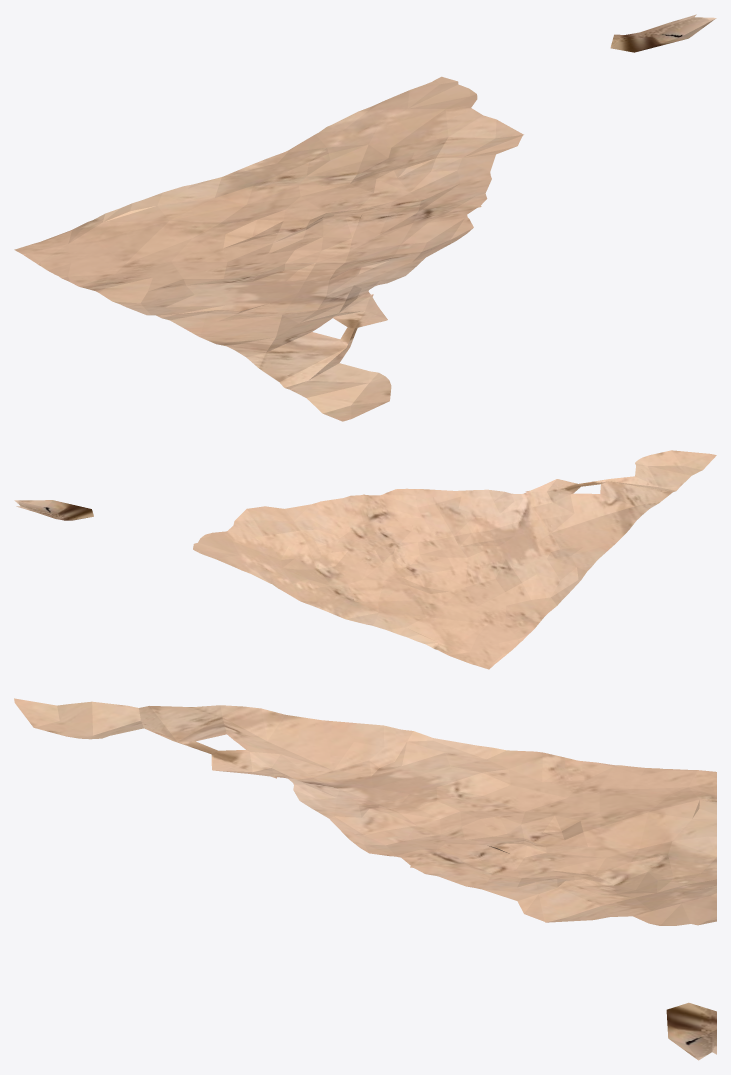
3 views of the same model, one above another, from view 1: azimuth 30°, elevation 25°; view 2: azimuth 150°, elevation 25°; view 3: azimuth 270°, elevation 25° (orthographic). The views are drawn at different scales.
Size of the model in its own units: 1.68 by 0.1589 by 1.38.
Materials: 1 (1 with a texture image).
